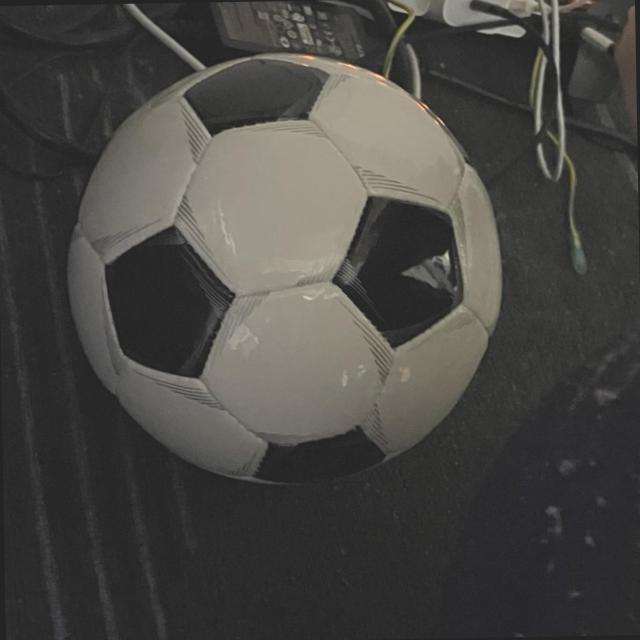Soccer Ball: (58, 48, 504, 493)
